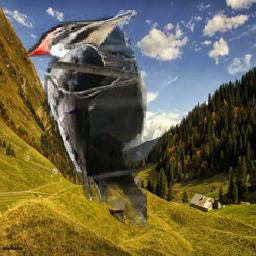Woodpecker: (25, 11, 148, 232)
